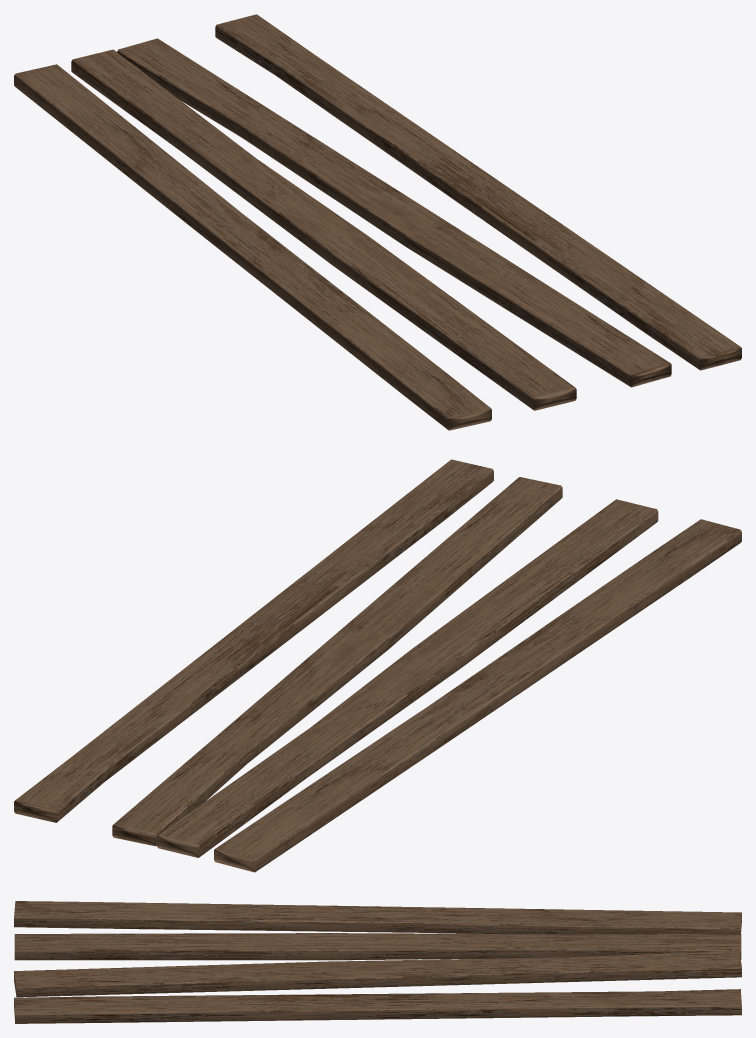
File: SM_planks.fbx
3 renders of one model, top to bottom at view 1: azimuth 30°, elevation 25°; view 2: azimuth 150°, elevation 25°; view 3: azimuth 270°, elevation 25°, orthographic. The views are drawn at different scales.
Visible parts, largest first — view 1: SM_planks; view 2: SM_planks; view 3: SM_planks.
Boxes of the visible parts, bbox=[...] form: SM_planks: bbox=[14, 14, 741, 430]; SM_planks: bbox=[14, 459, 741, 872]; SM_planks: bbox=[14, 901, 741, 1023].
Size of the model in its own units: 110 by 299 by 5.16.
1 material, 1 textured.
